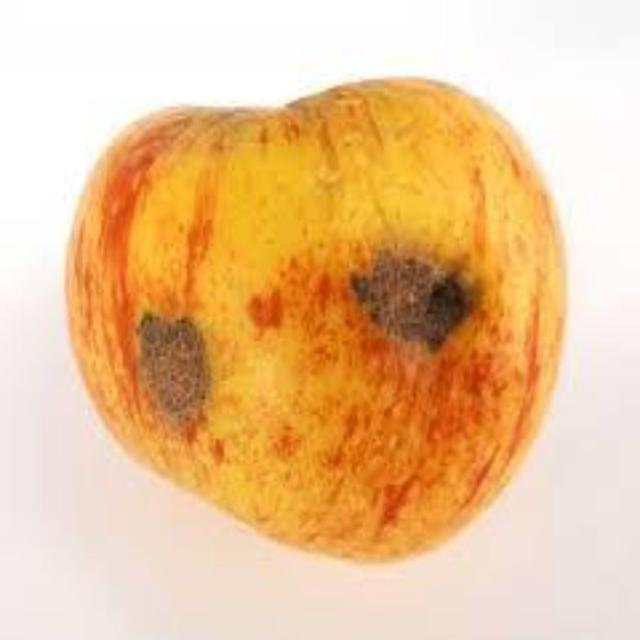Rotten Apple: (73, 71, 586, 589)
